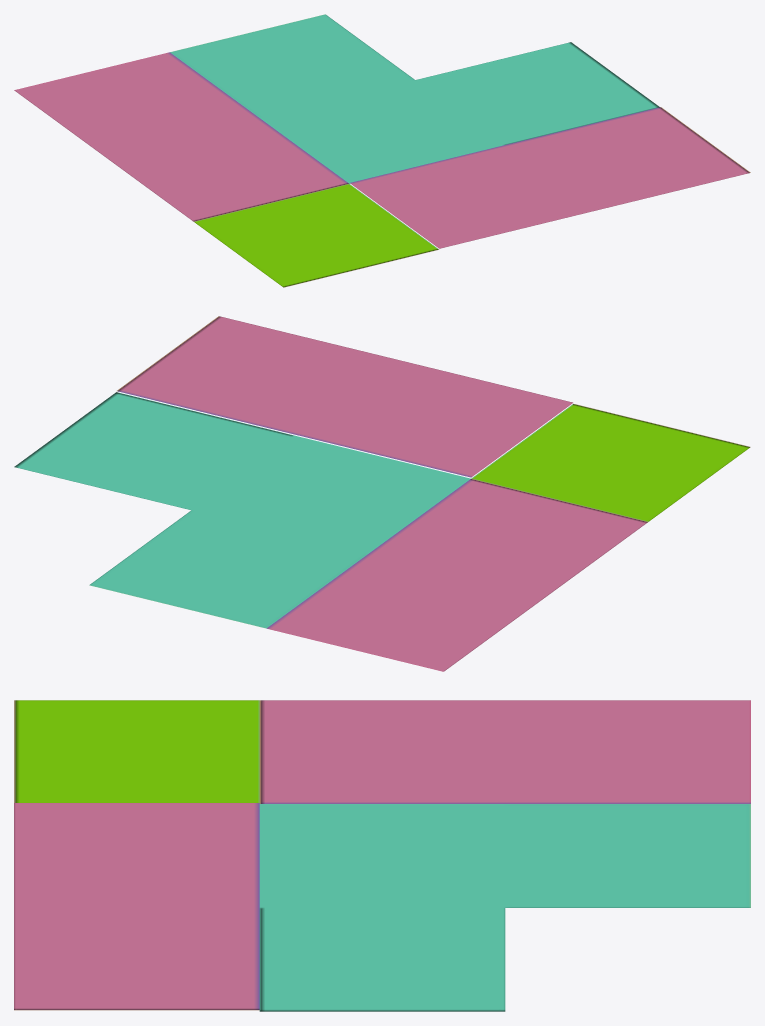
The model's file is MK_Path_Turn_Trim_Frayed.fbx.
The picture shows the model from 3 angles, top to bottom: view 1: azimuth 30°, elevation 25°; view 2: azimuth 150°, elevation 25°; view 3: azimuth 270°, elevation 25°; orthographic projection. The views are drawn at different scales.
Parts seen in each view (by area): view 1: Path_Turn_Trim_Frayed; view 2: Path_Turn_Trim_Frayed; view 3: Path_Turn_Trim_Frayed.
Boxes of the visible parts, left/top/right/bottom form: Path_Turn_Trim_Frayed: left=14, top=14, right=750, bottom=287; Path_Turn_Trim_Frayed: left=14, top=316, right=750, bottom=671; Path_Turn_Trim_Frayed: left=14, top=700, right=750, bottom=1011.
Bounding box in the file's own units: 135 × 0.25 × 135.
1 material, 1 textured.
